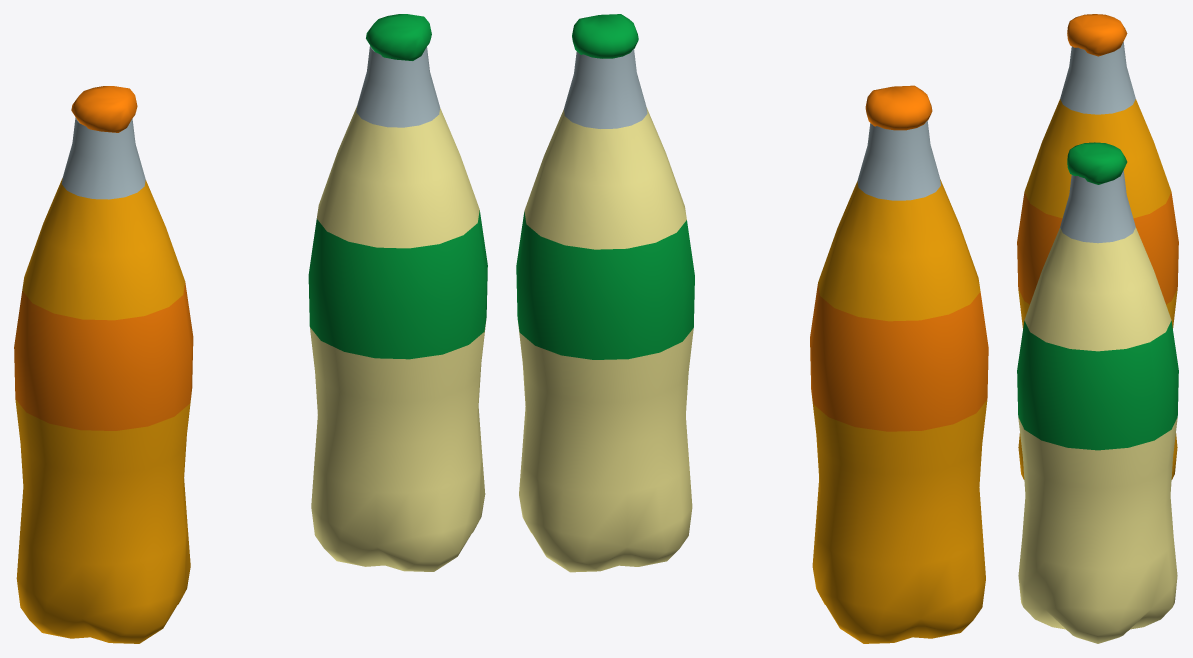
The model's file is soda.fbx.
3 views of the same model, side by side, from view 1: azimuth 30°, elevation 25°; view 2: azimuth 150°, elevation 25°; view 3: azimuth 270°, elevation 25° (orthographic). The views are drawn at different scales.
Parts seen in each view (by area): view 1: drink_002.001, drink_002.002; view 2: drink_002.001, drink_002.002; view 3: drink_002.002, drink_002.001.
Part boxes in pixels (box(x1,y1,x2,y2)): drink_002.001: box(14, 86, 193, 643); drink_002.002: box(308, 14, 487, 571); drink_002.001: box(810, 85, 988, 643); drink_002.002: box(516, 14, 694, 572); drink_002.002: box(1017, 142, 1178, 643); drink_002.001: box(1017, 14, 1178, 479).
Bounding box in the file's own units: 22.16 × 25.17 × 7.7.
